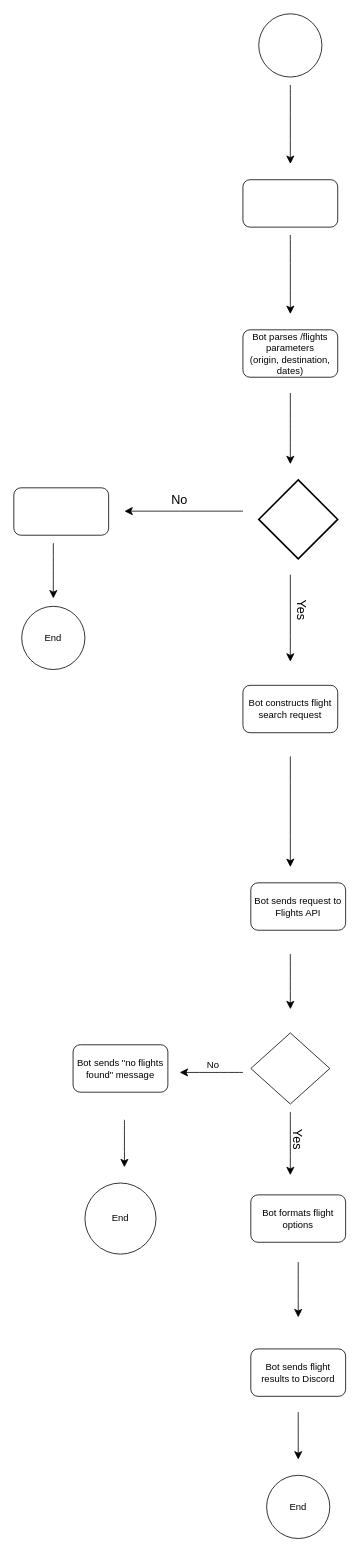
This 359x1552 diagram has some shape labels left out. The centre of each missing label's shape, as x and y in pixels:
Are input parameters valid?: point (298, 519)
Bot sends validation error message: point (61, 511)
Did API return flight results?: point (290, 1068)
Discord sends interaction payload to bot: point (290, 203)
User enters /flights command in discord: point (290, 45)
